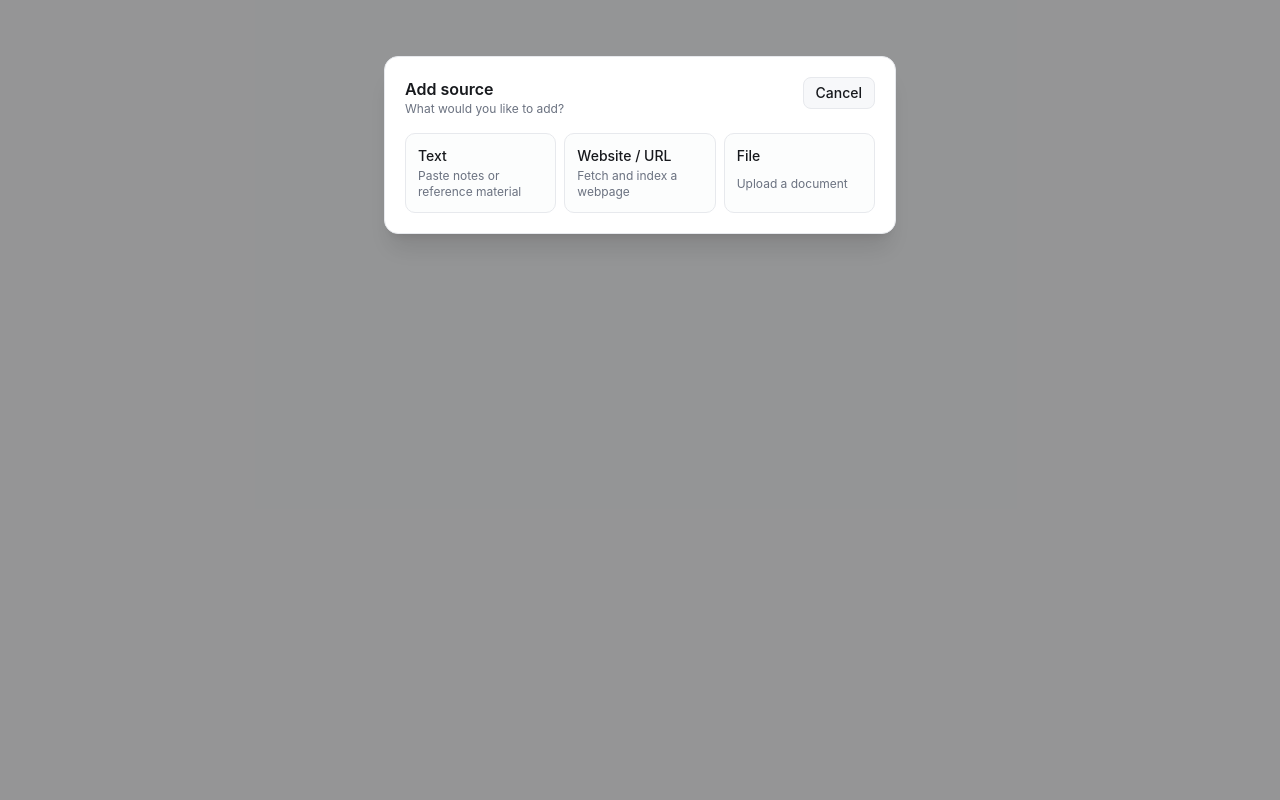
AddSourceDialog › shows only the file form after choosing File
This screenshot has width=1280, height=800.
Click the button "File Upload a document" at (799, 173), box 724,133 -> 875,213
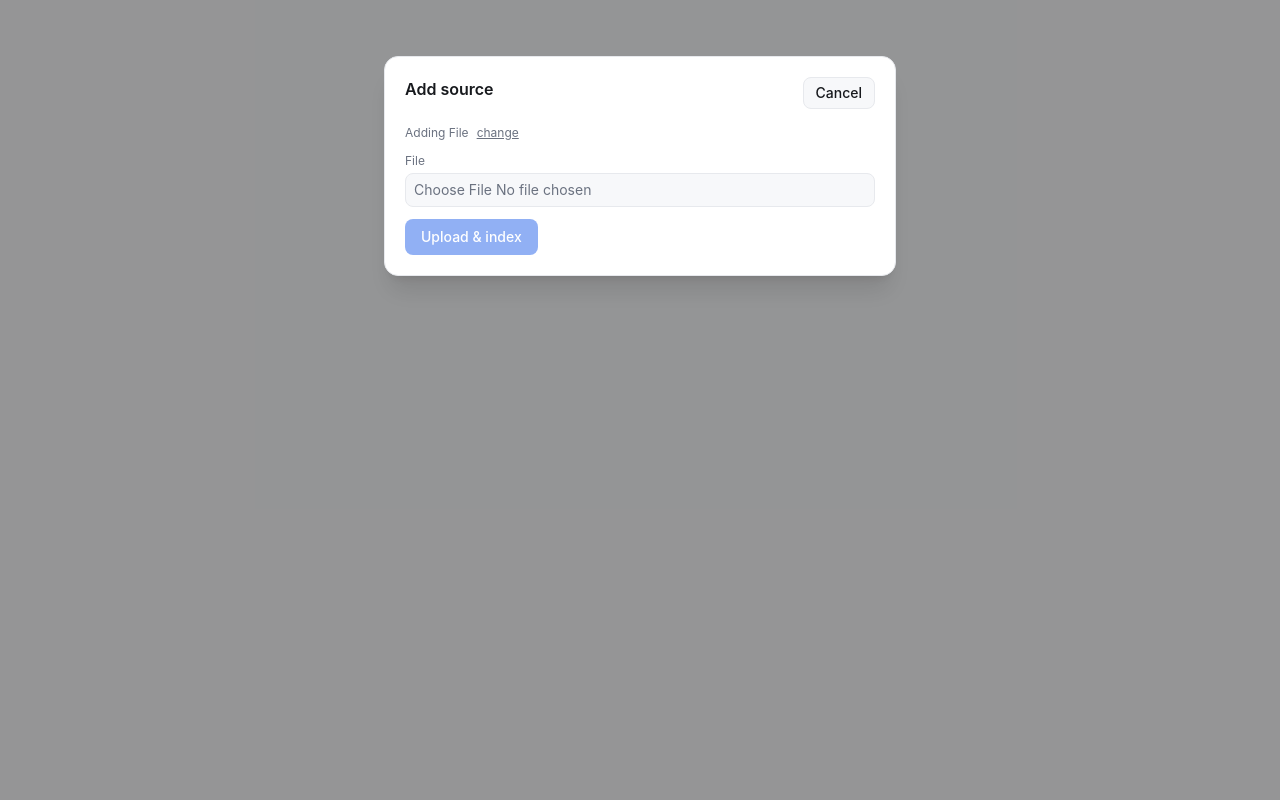
Expected: the text "Adding File" is shown, 405,125 -> 469,141
